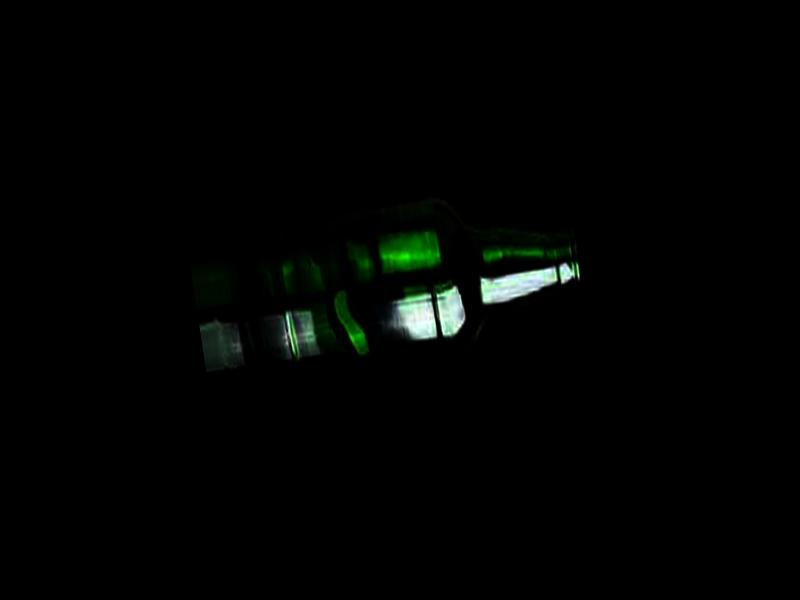Beer: (269, 175, 587, 363)
